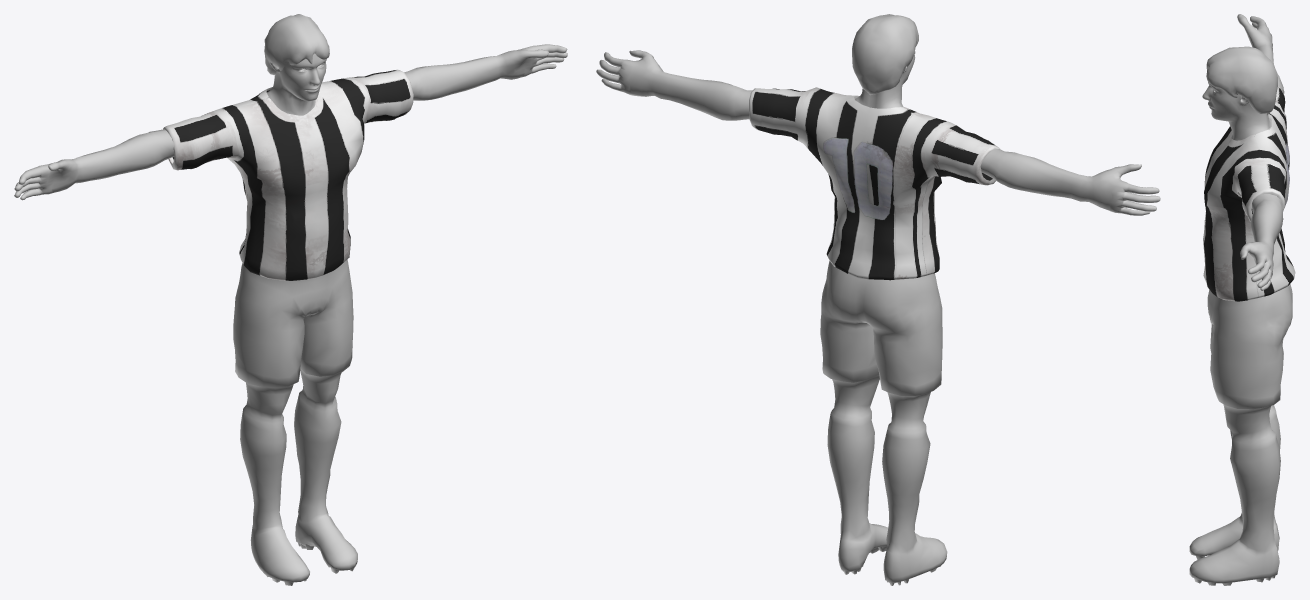
The model's file is Jogador.fbx.
The picture shows the model from 3 angles, left to right: view 1: azimuth 30°, elevation 25°; view 2: azimuth 150°, elevation 25°; view 3: azimuth 270°, elevation 25°; orthographic projection. The views are drawn at different scales.
Visible parts, largest first — view 1: Lumbergh_Hair; view 2: Lumbergh_Hair; view 3: Lumbergh_Hair.
Boxes of the visible parts, <box> form: Lumbergh_Hair: <box>14,14,567,585</box>; Lumbergh_Hair: <box>596,14,1160,585</box>; Lumbergh_Hair: <box>1189,14,1295,585</box>.
Size of the model in its own units: 19379 by 18153 by 3368.
